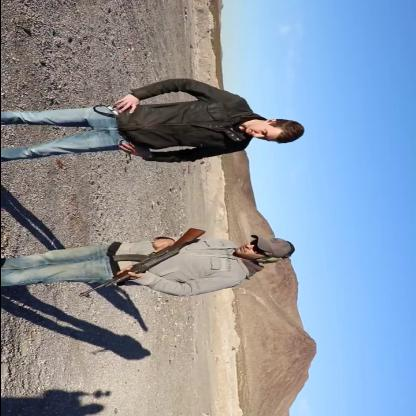long weapon: (80, 225, 211, 303)
